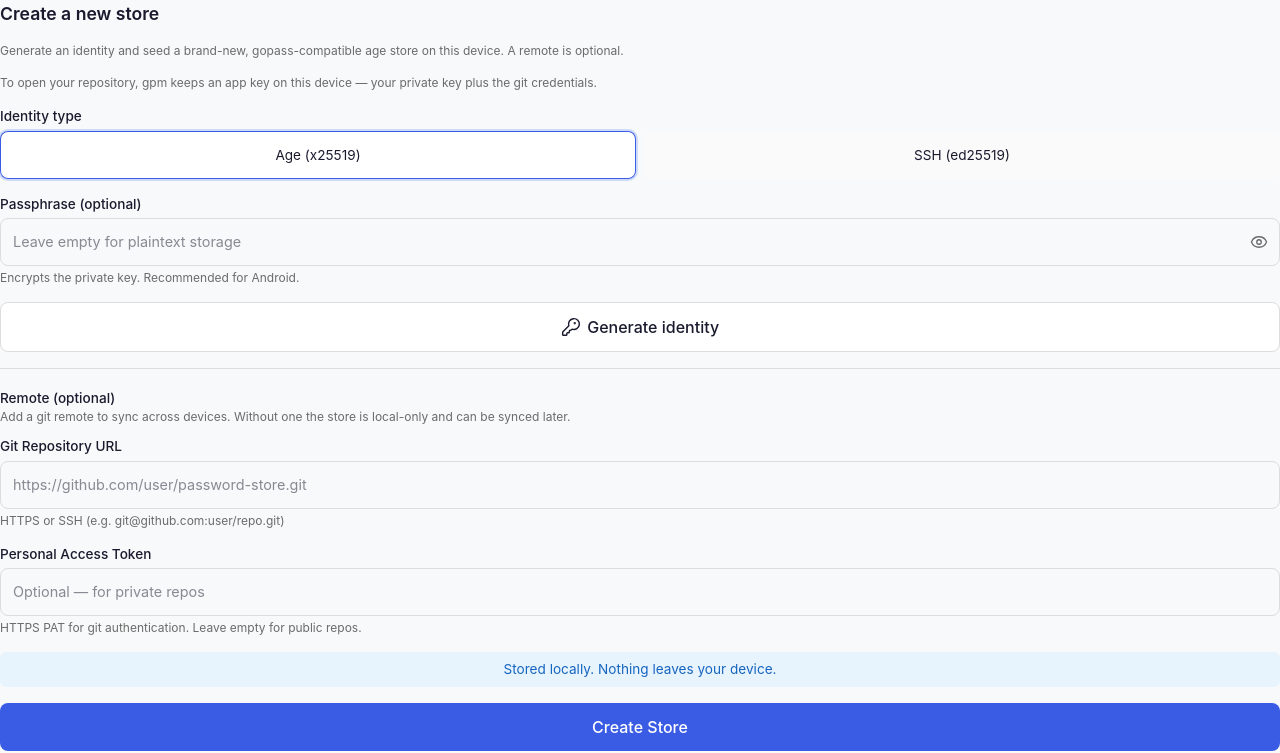
Test case: CreateFlow › rejects authentication fields without a repository URL
Click the button "Generate identity" at (640, 327), box [0,302,1279,352]
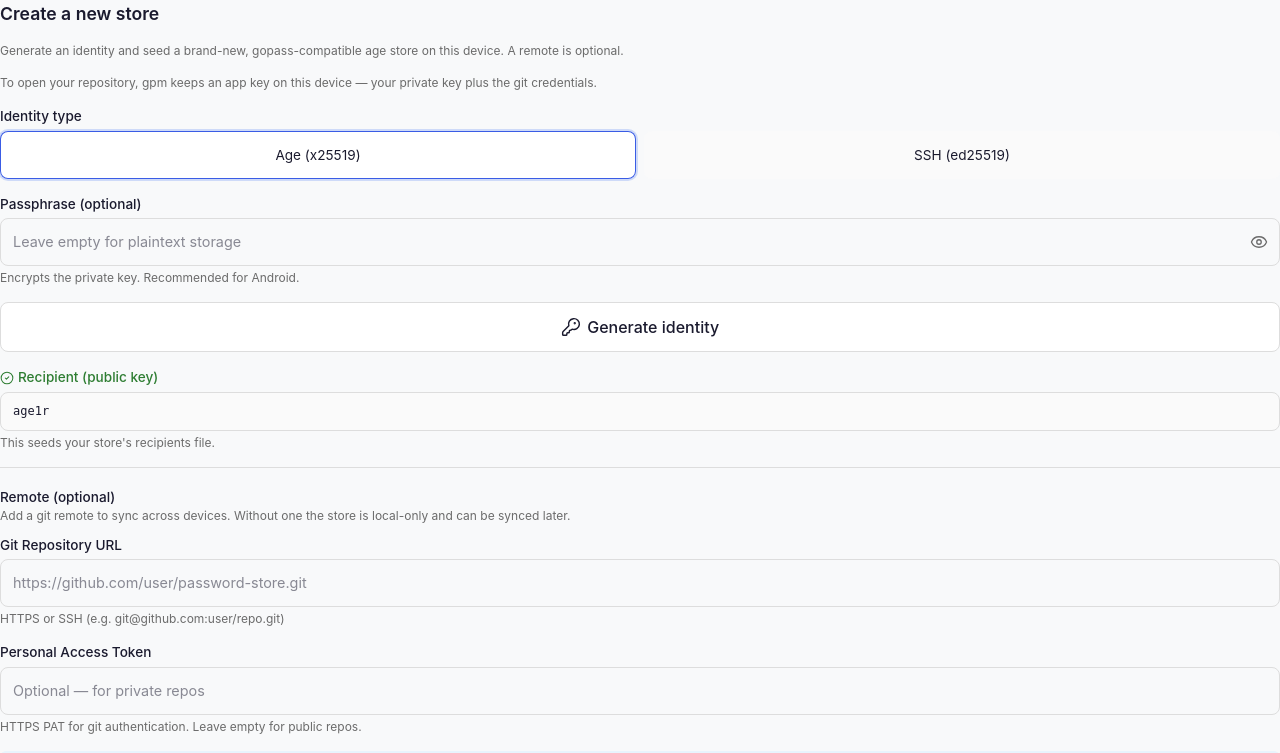
Type "stray-pat" into the password field labelled "Personal Access Token" at (640, 691), box [0,667,1279,715]
(page scrolled)
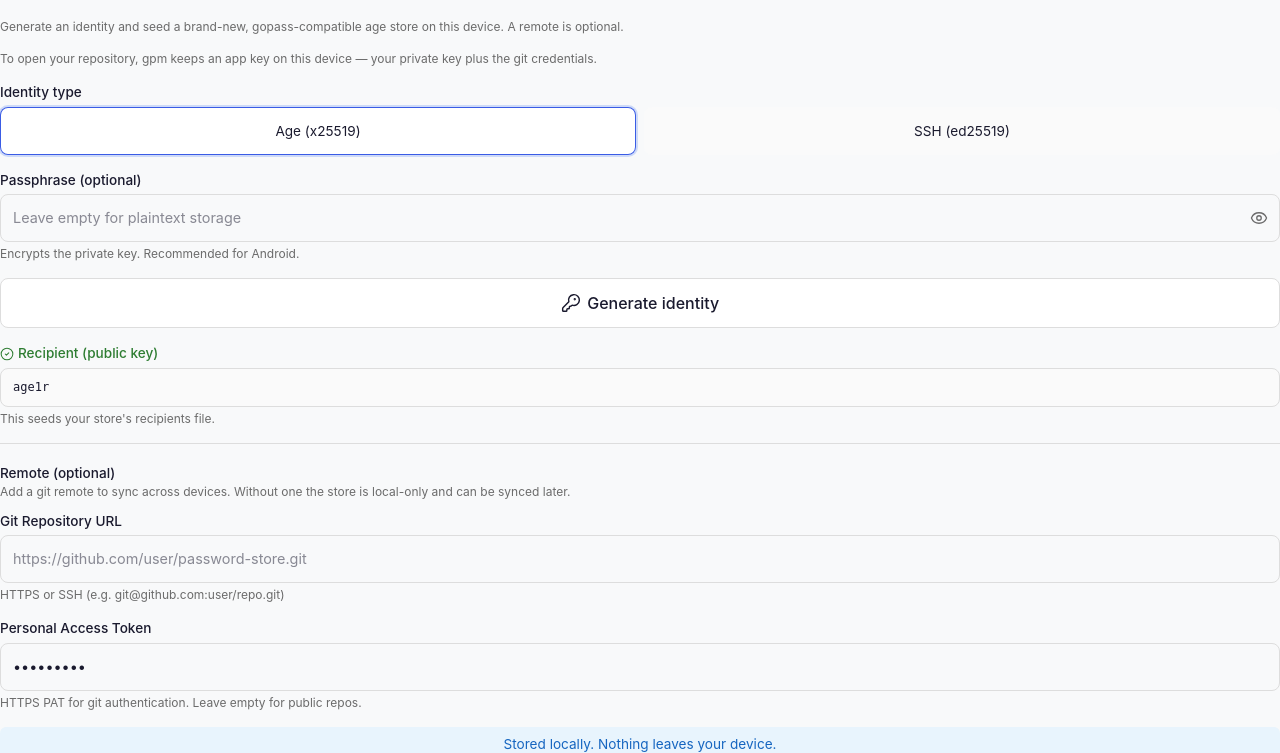
Submit the form
(page scrolled)
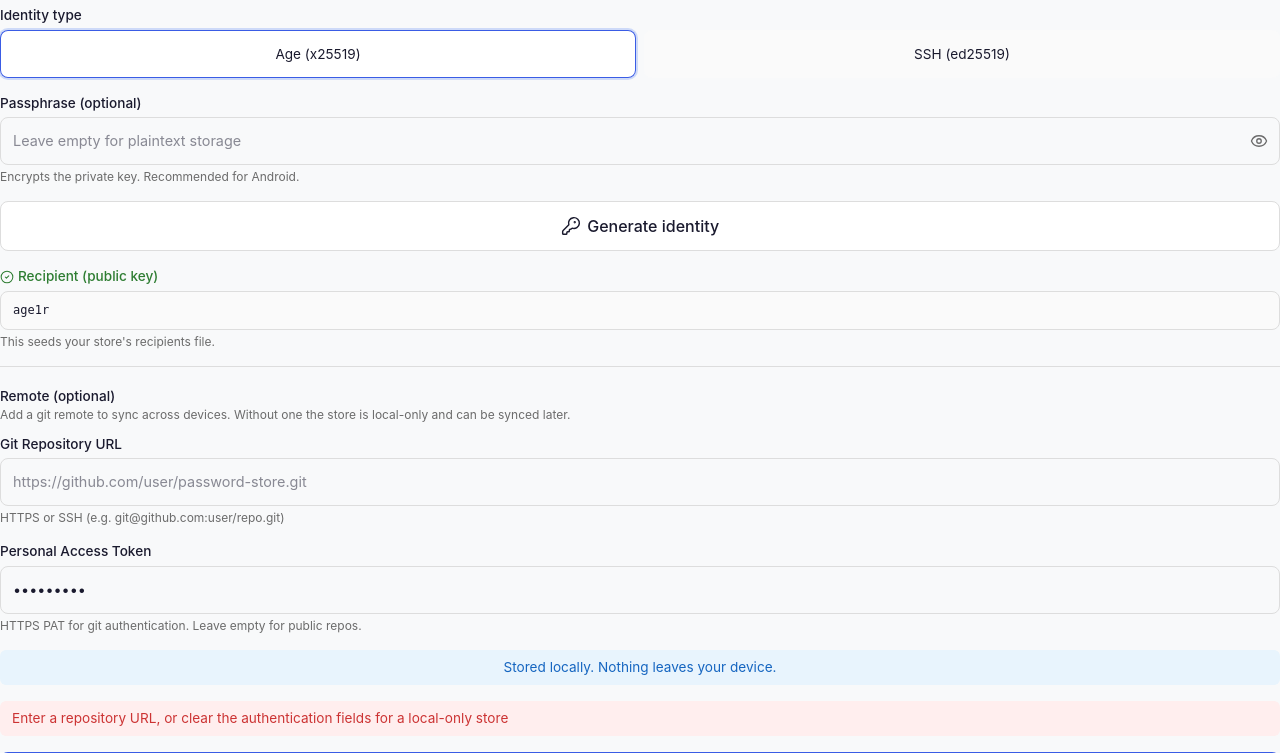
Check: the 2nd message shows "Enter a repository URL", box [12,710,508,726]
